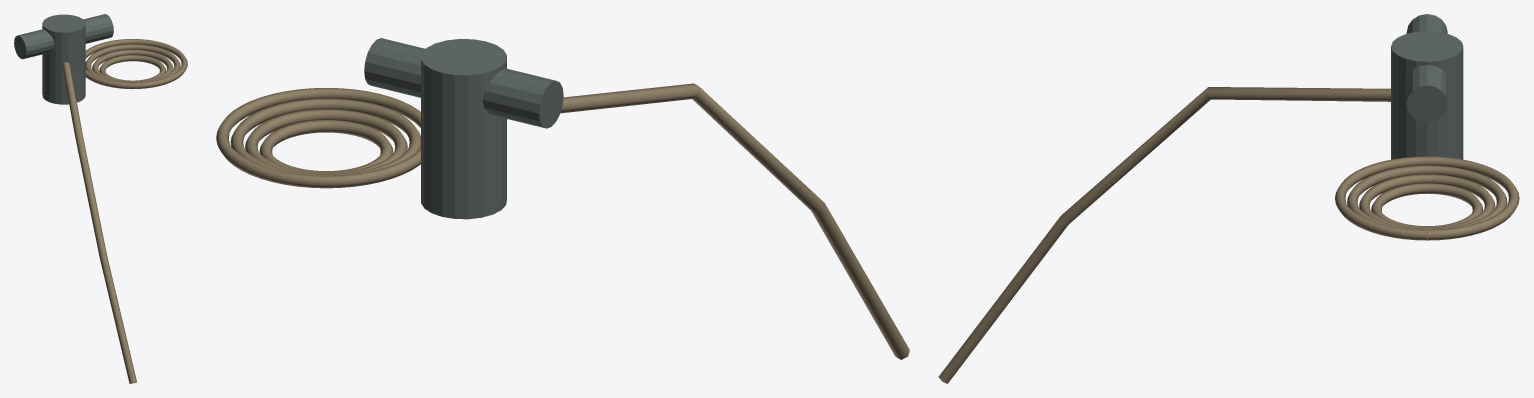
File: prop_mooring.glb
3 views of the same model, side by side, from view 1: azimuth 30°, elevation 25°; view 2: azimuth 150°, elevation 25°; view 3: azimuth 270°, elevation 25° (orthographic). The views are drawn at different scales.
Parts seen in each view (by area): view 1: base__hemp_rope, base__aged_iron; view 2: base__hemp_rope, base__aged_iron; view 3: base__hemp_rope, base__aged_iron.
Boxes of the visible parts, x1,y1,x2,y2 form: base__hemp_rope: (62, 39, 187, 383); base__aged_iron: (14, 14, 113, 104); base__hemp_rope: (216, 83, 909, 359); base__aged_iron: (364, 38, 563, 219); base__hemp_rope: (938, 87, 1519, 383); base__aged_iron: (1391, 14, 1463, 159).
Bounding box in the file's own units: 3.12 × 3.63 × 4.81.
